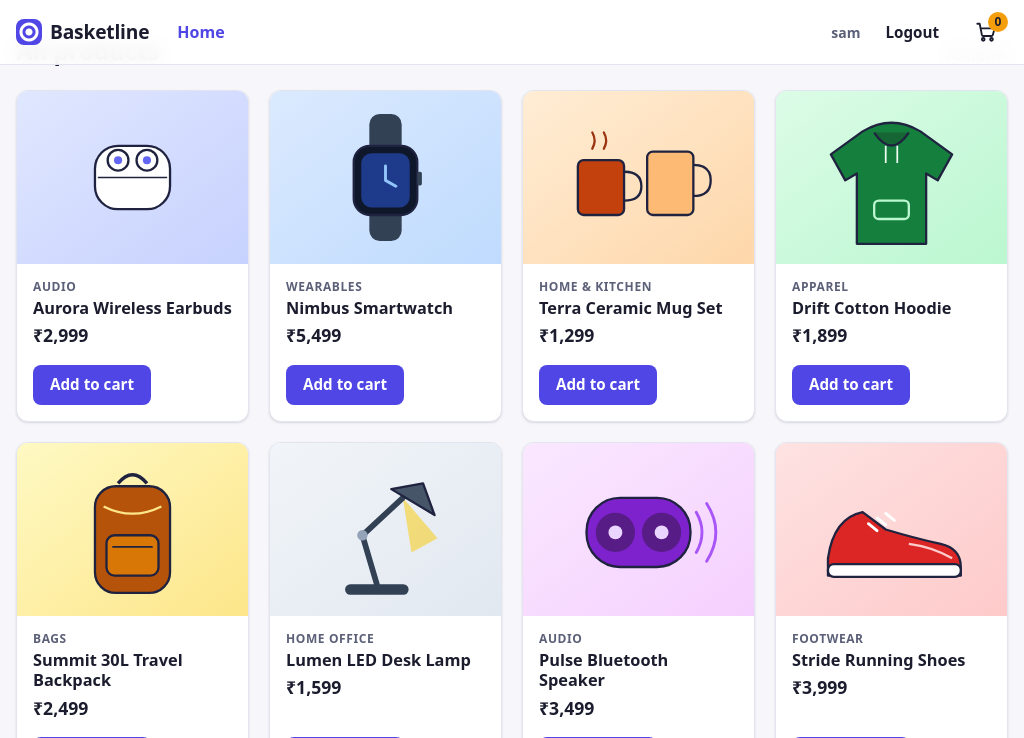
it: shopping cart flow › updates the header badge with total quantity and shows feedback
This screenshot has width=1024, height=738.
(page scrolled)
Expected: the text with test id "cart-badge" reads "0", [995,13,1002,30]
Click the 1st button "Add to cart".
click(92, 385)  # box [33,365,151,405]
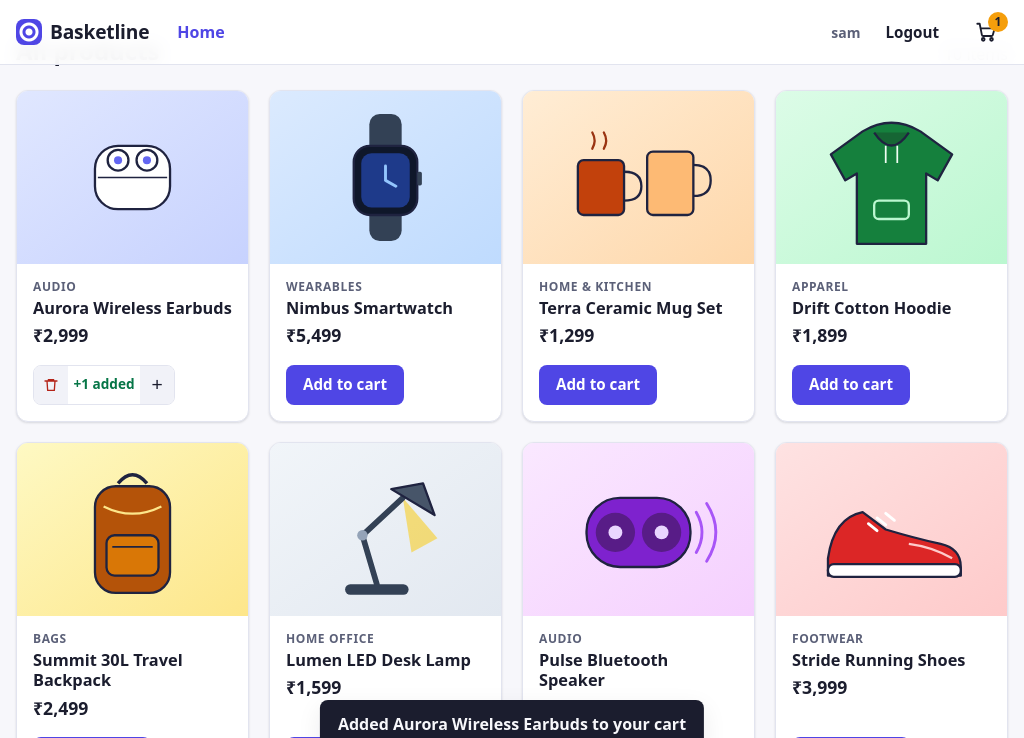
Click the button named "Increase quantity of Aurora Wireless Earbuds".
click(157, 385)  # box [140,366,174,404]
(page scrolled)
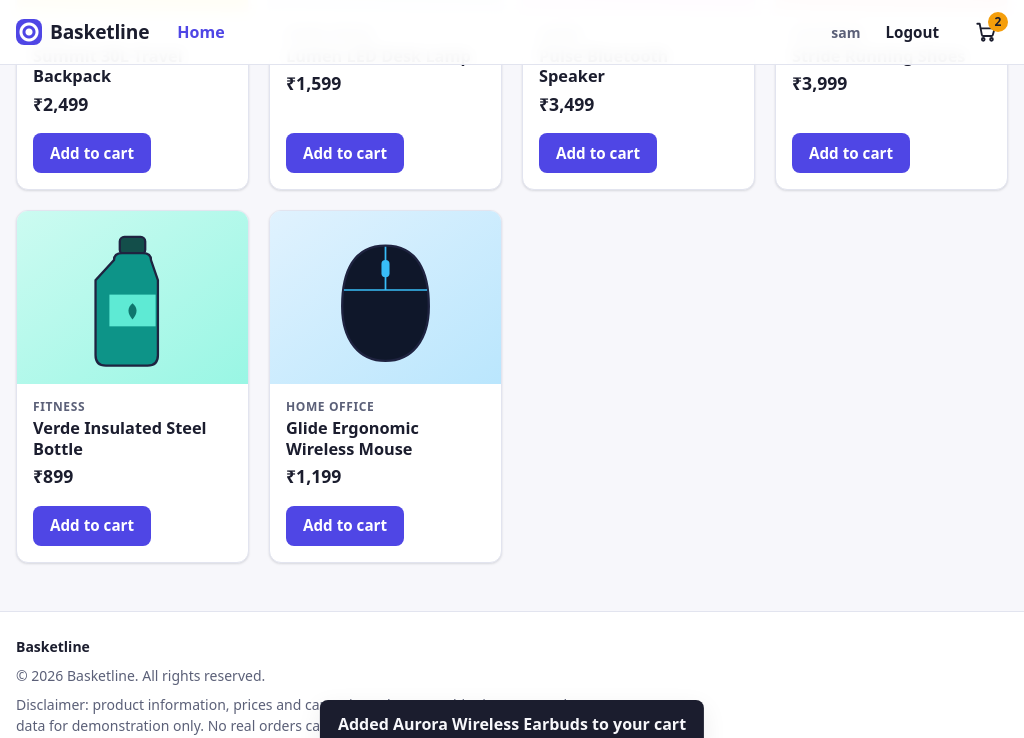
Click the button "Add to cart" below "₹899".
click(92, 526)  # box [33,506,151,546]
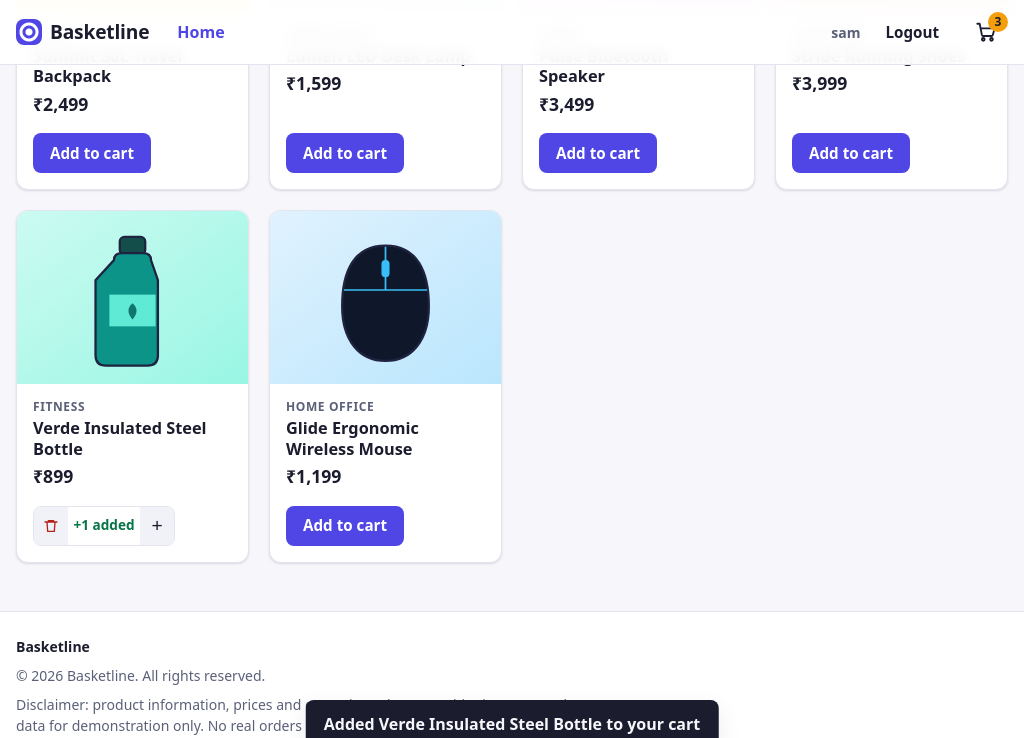
Now the text with test id "cart-badge" reads "3", box [995,13,1002,30]
Now the link named "Cart, 3 items" is shown, box [975,12,1008,43]
Now the message reads "Added Verde Insulated Steel Bottle to your cart", box [324,713,700,735]
